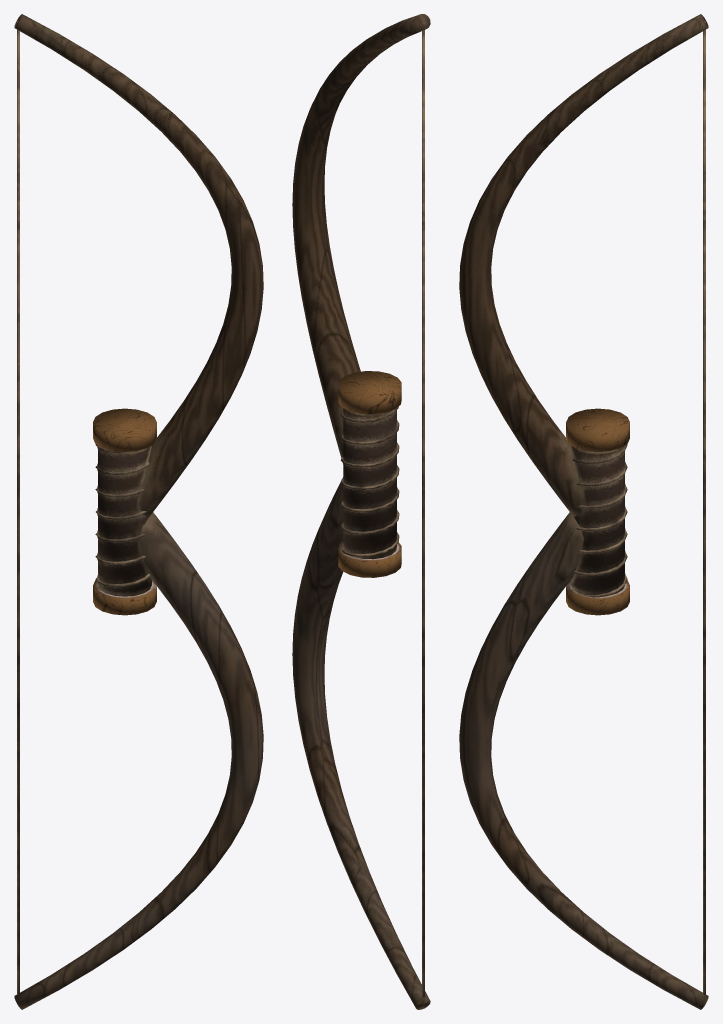
File: eq_bow_1.glb
3 views of the same model, side by side, from view 1: azimuth 90°, elevation 25°; view 2: azimuth 210°, elevation 25°; view 3: azimuth 270°, elevation 25° (orthographic).
Visible parts, largest first — view 1: eq_bow_1; view 2: eq_bow_1; view 3: eq_bow_1.
Boxes of the visible parts, x1,y1,x2,y2 form: eq_bow_1: (14, 14, 263, 1009); eq_bow_1: (292, 14, 430, 1009); eq_bow_1: (459, 14, 708, 1009).
Size of the model in its own units: 0.066 by 1.13 by 0.2579.
Materials: 1 (1 with a texture image).
